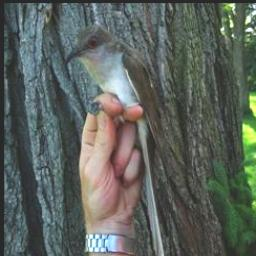Cuckoo: (61, 23, 174, 256)
